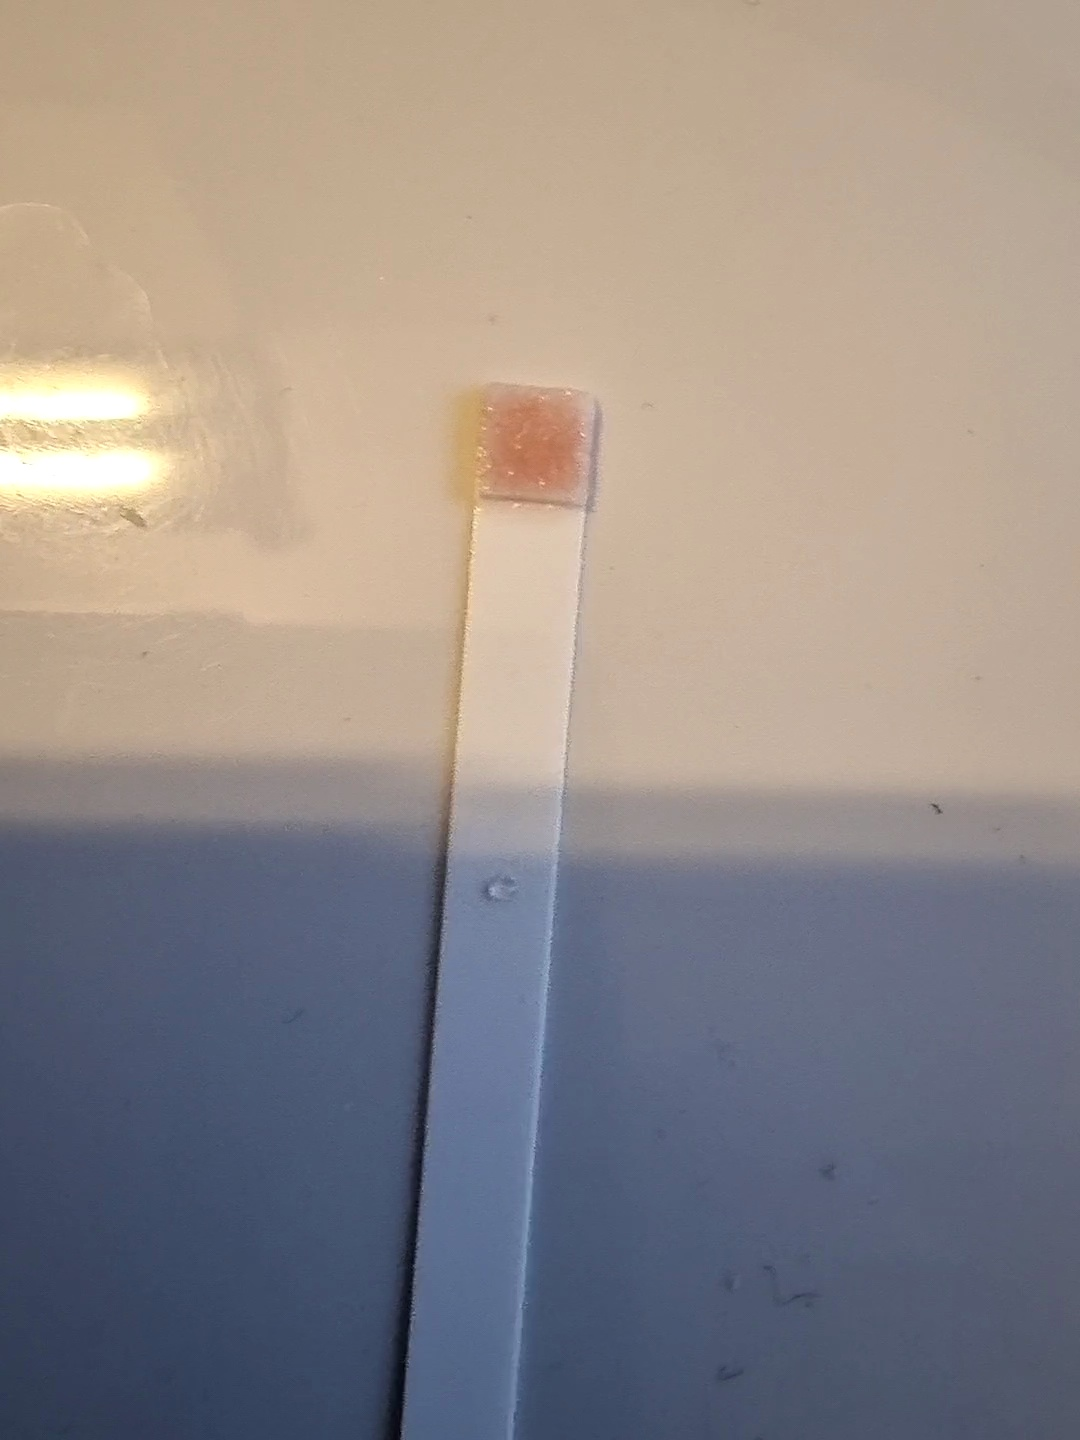keto-tip: (469, 376, 605, 516)
